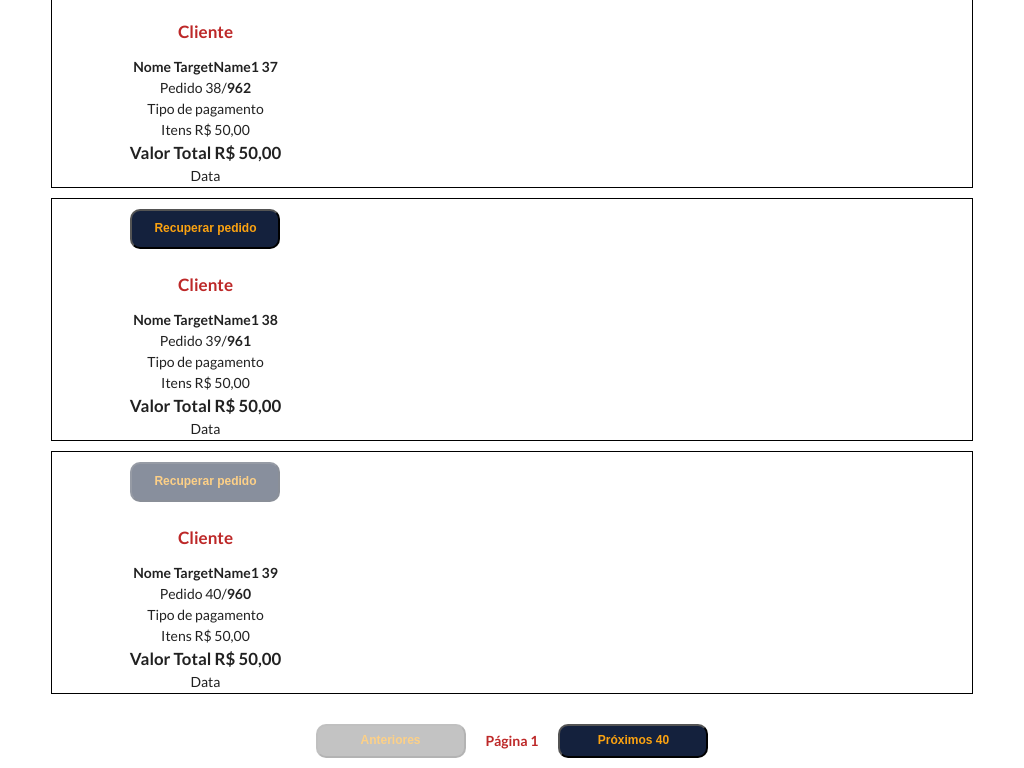
it: RequestList Component › 3. Botão de Anteriores: verifica retorno para a página 1 (prev)
The image size is (1024, 768).
(page scrolled)
Click the button "Próximos 40" at (633, 741), box [558,724,708,758]
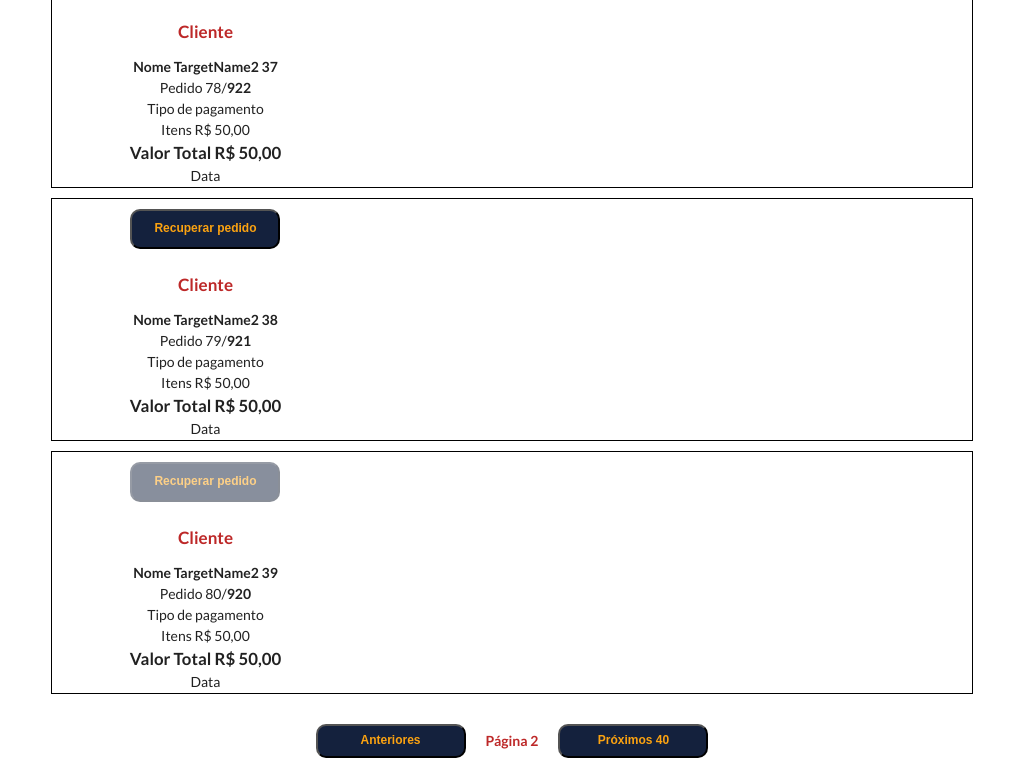
Now the button "Anteriores" is enabled
Click the button "Anteriores" at (390, 741), box [316,724,466,758]
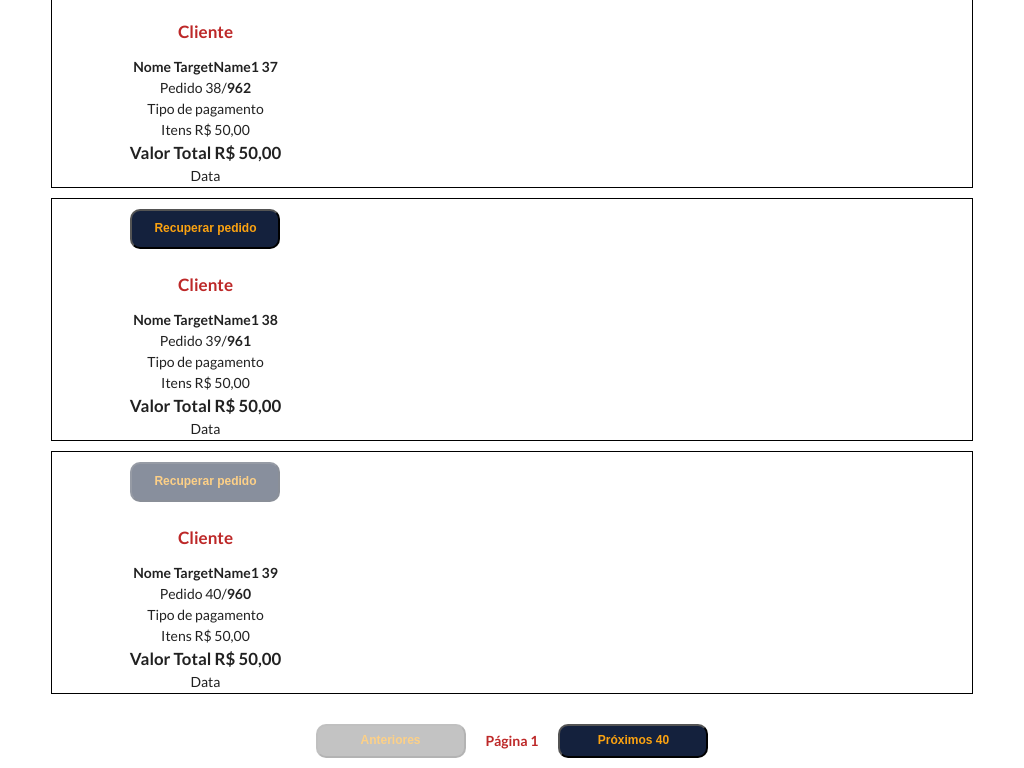
Now the text "Página 1" is shown, box [486,731,538,751]
